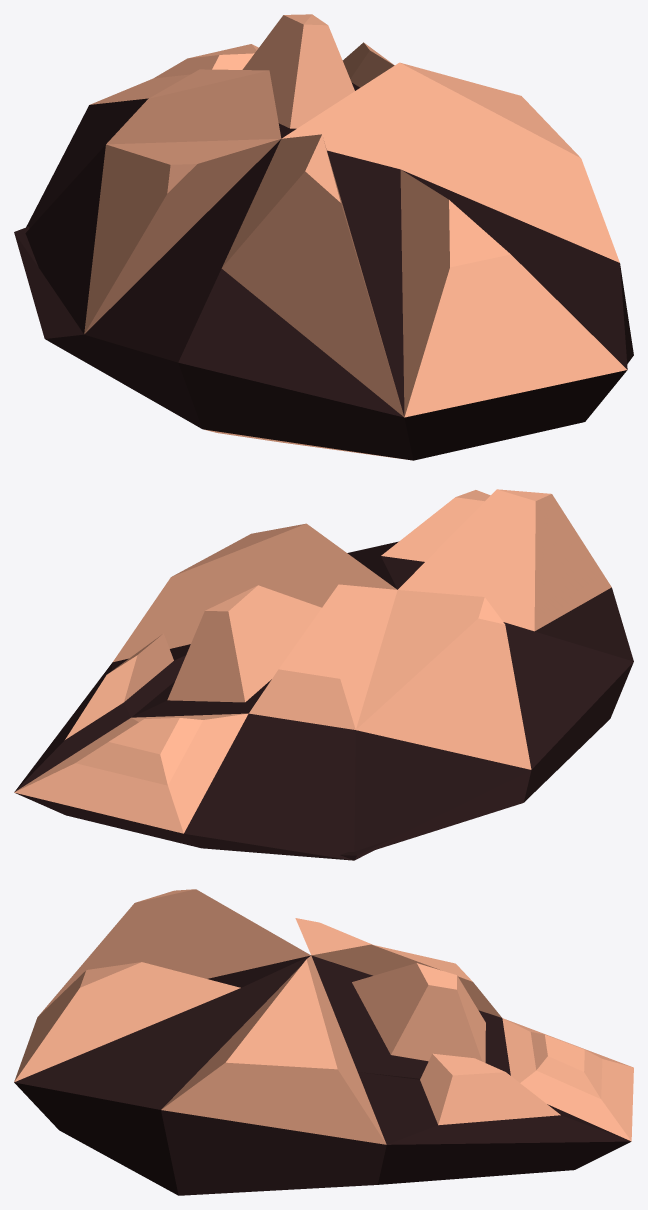
Rendered from Mena De Hierro.fbx.
3 renders of one model, top to bottom at view 1: azimuth 30°, elevation 25°; view 2: azimuth 150°, elevation 25°; view 3: azimuth 270°, elevation 25°, orthographic. The views are drawn at different scales.
Parts seen in each view (by area): view 1: Mena De Hierro; view 2: Mena De Hierro; view 3: Mena De Hierro.
Part boxes in pixels (bbox=[...]): Mena De Hierro: bbox=[14, 14, 633, 460]; Mena De Hierro: bbox=[14, 489, 633, 860]; Mena De Hierro: bbox=[14, 889, 633, 1195].
Size of the model in its own units: 116 by 177 by 75.45.
